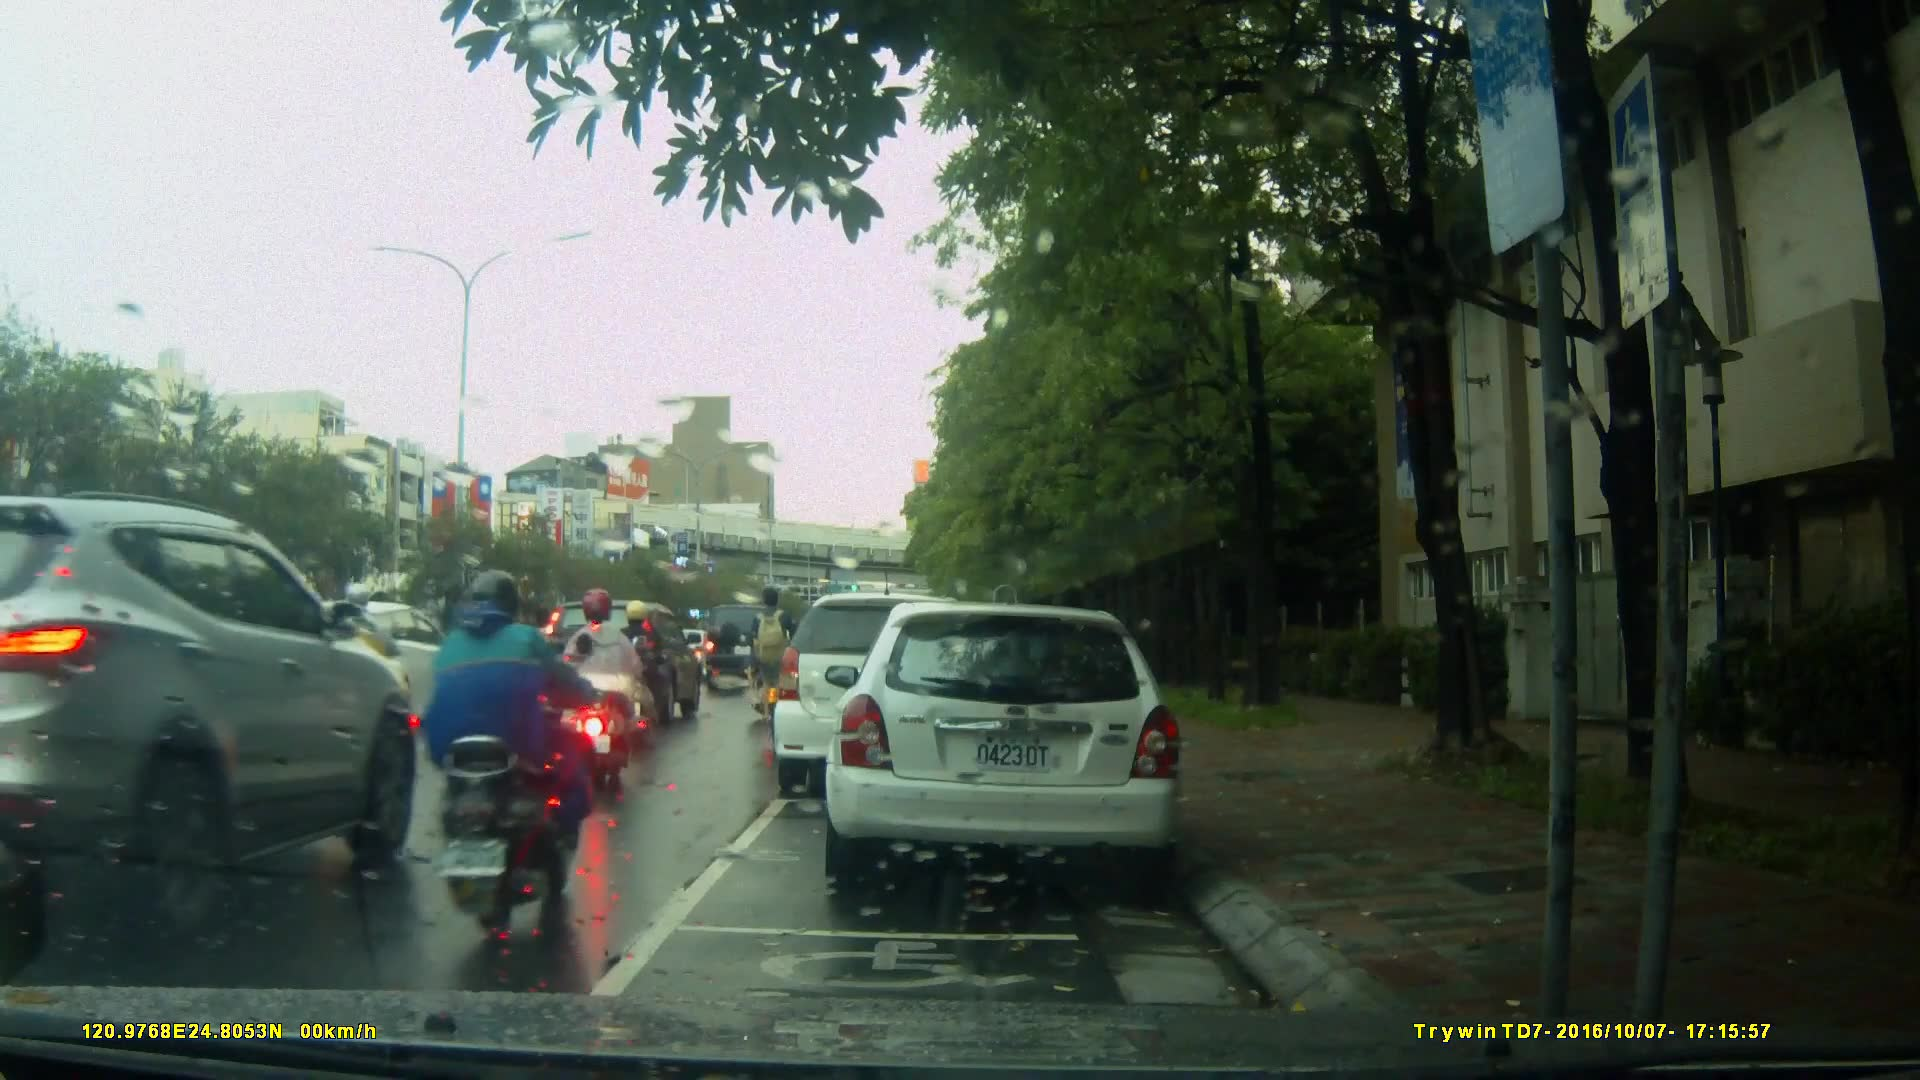rider: (424, 566, 581, 945), (312, 579, 402, 777), (568, 589, 645, 801), (614, 602, 679, 749), (745, 586, 799, 750)
vehicle: (1, 488, 420, 945), (822, 604, 1188, 883), (774, 595, 995, 802), (538, 596, 708, 728)
